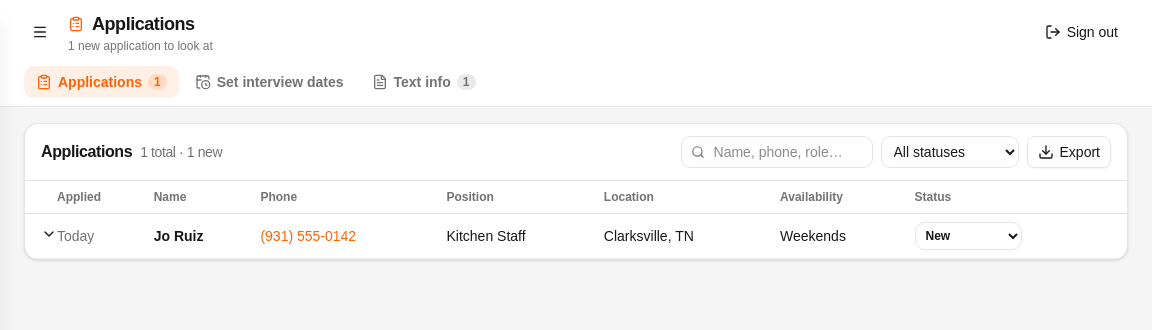
Test: the text info section › shows a saved piece with the copy button that is the point of it
The image size is (1152, 330).
Click the button "Text info 1": (424, 82) [360, 66, 488, 98]
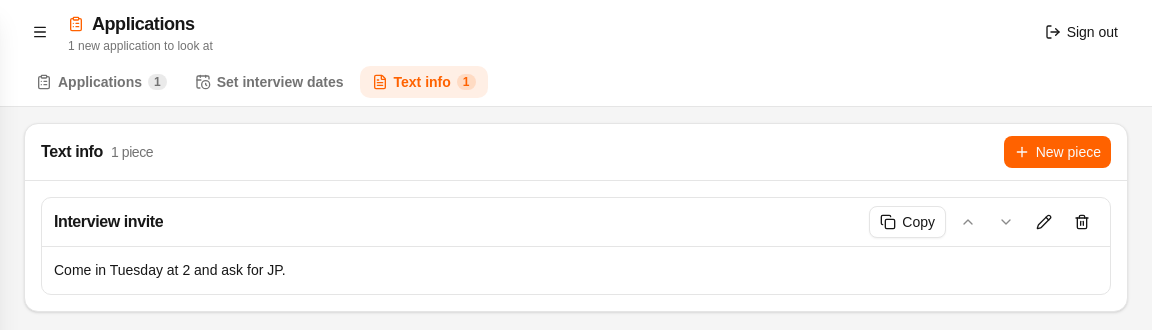
Expected: the text "Come in Tuesday at 2 and ask for JP." is shown, [54, 262, 286, 278]
Expected: the button "Copy" is shown, [869, 206, 946, 238]
